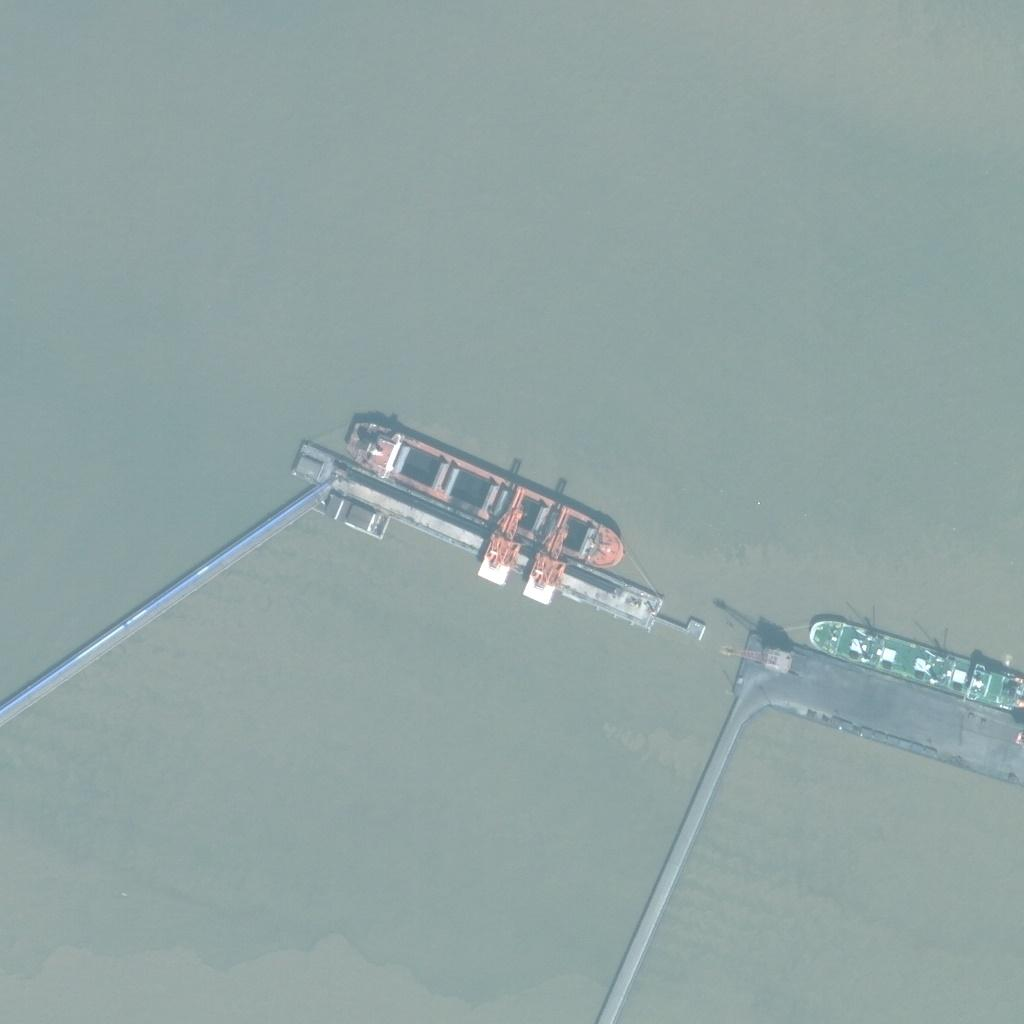ship: (343, 414, 632, 568)
